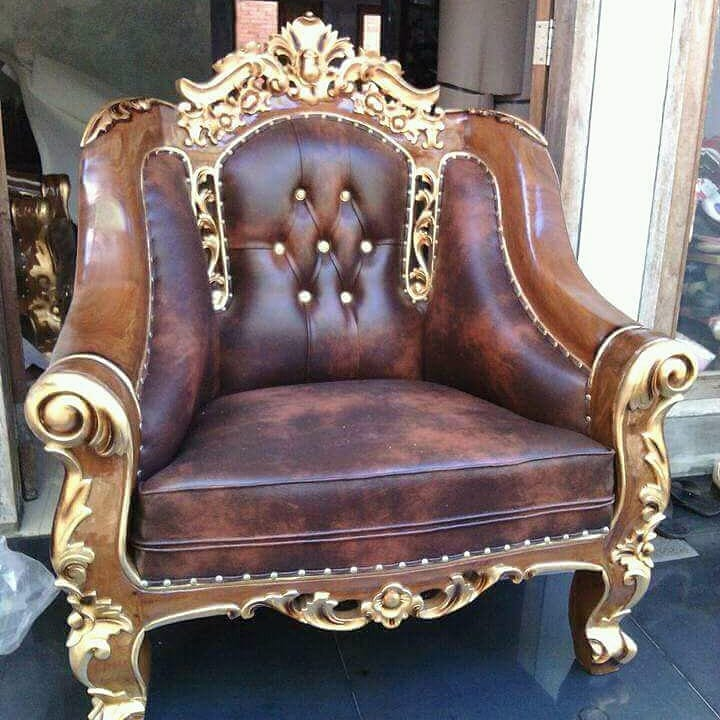Carving Chair: (63, 44, 681, 720)
